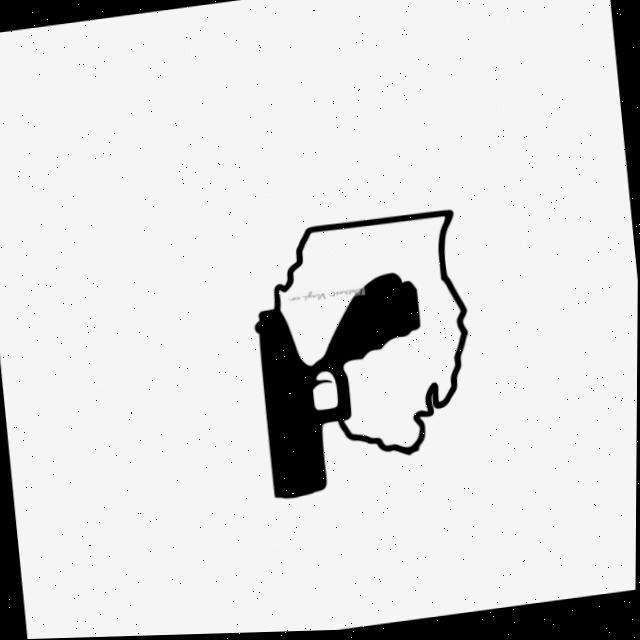pistol: (247, 267, 443, 507)
